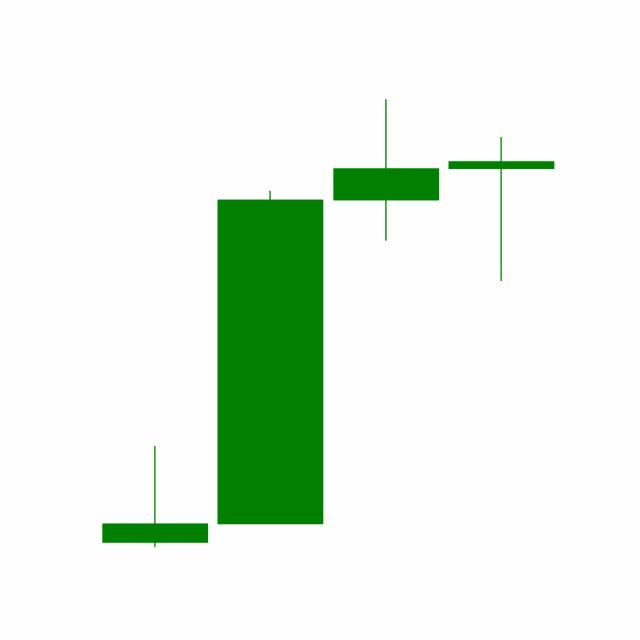Spinning Top: (443, 134, 559, 282)
